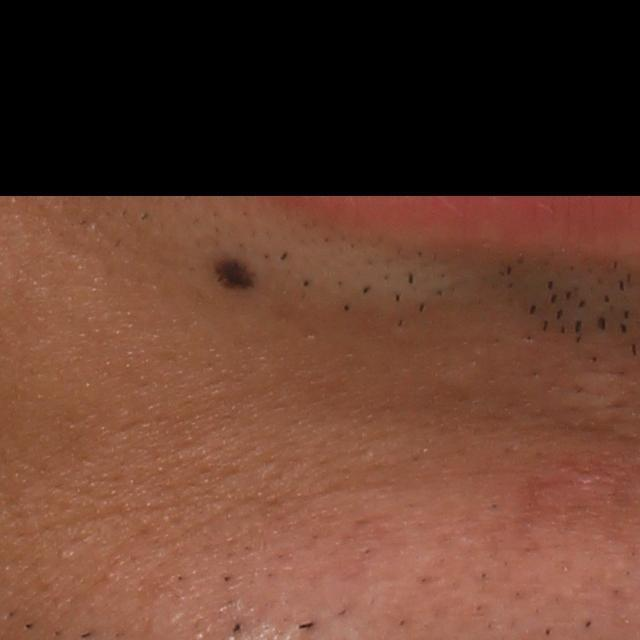nevus: (217, 259, 257, 292)
